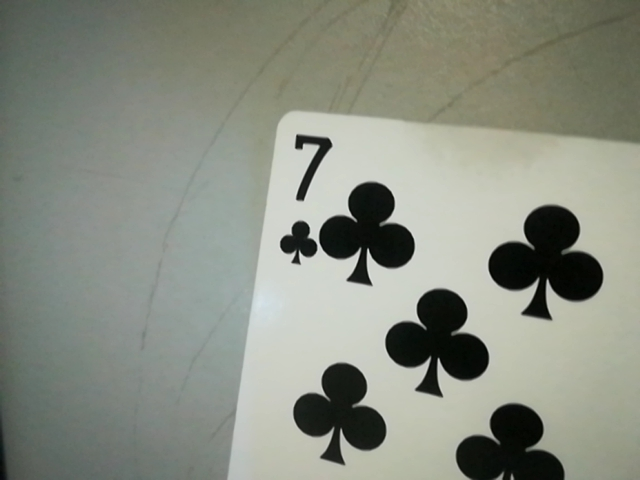mh 7: (270, 123, 328, 270)
